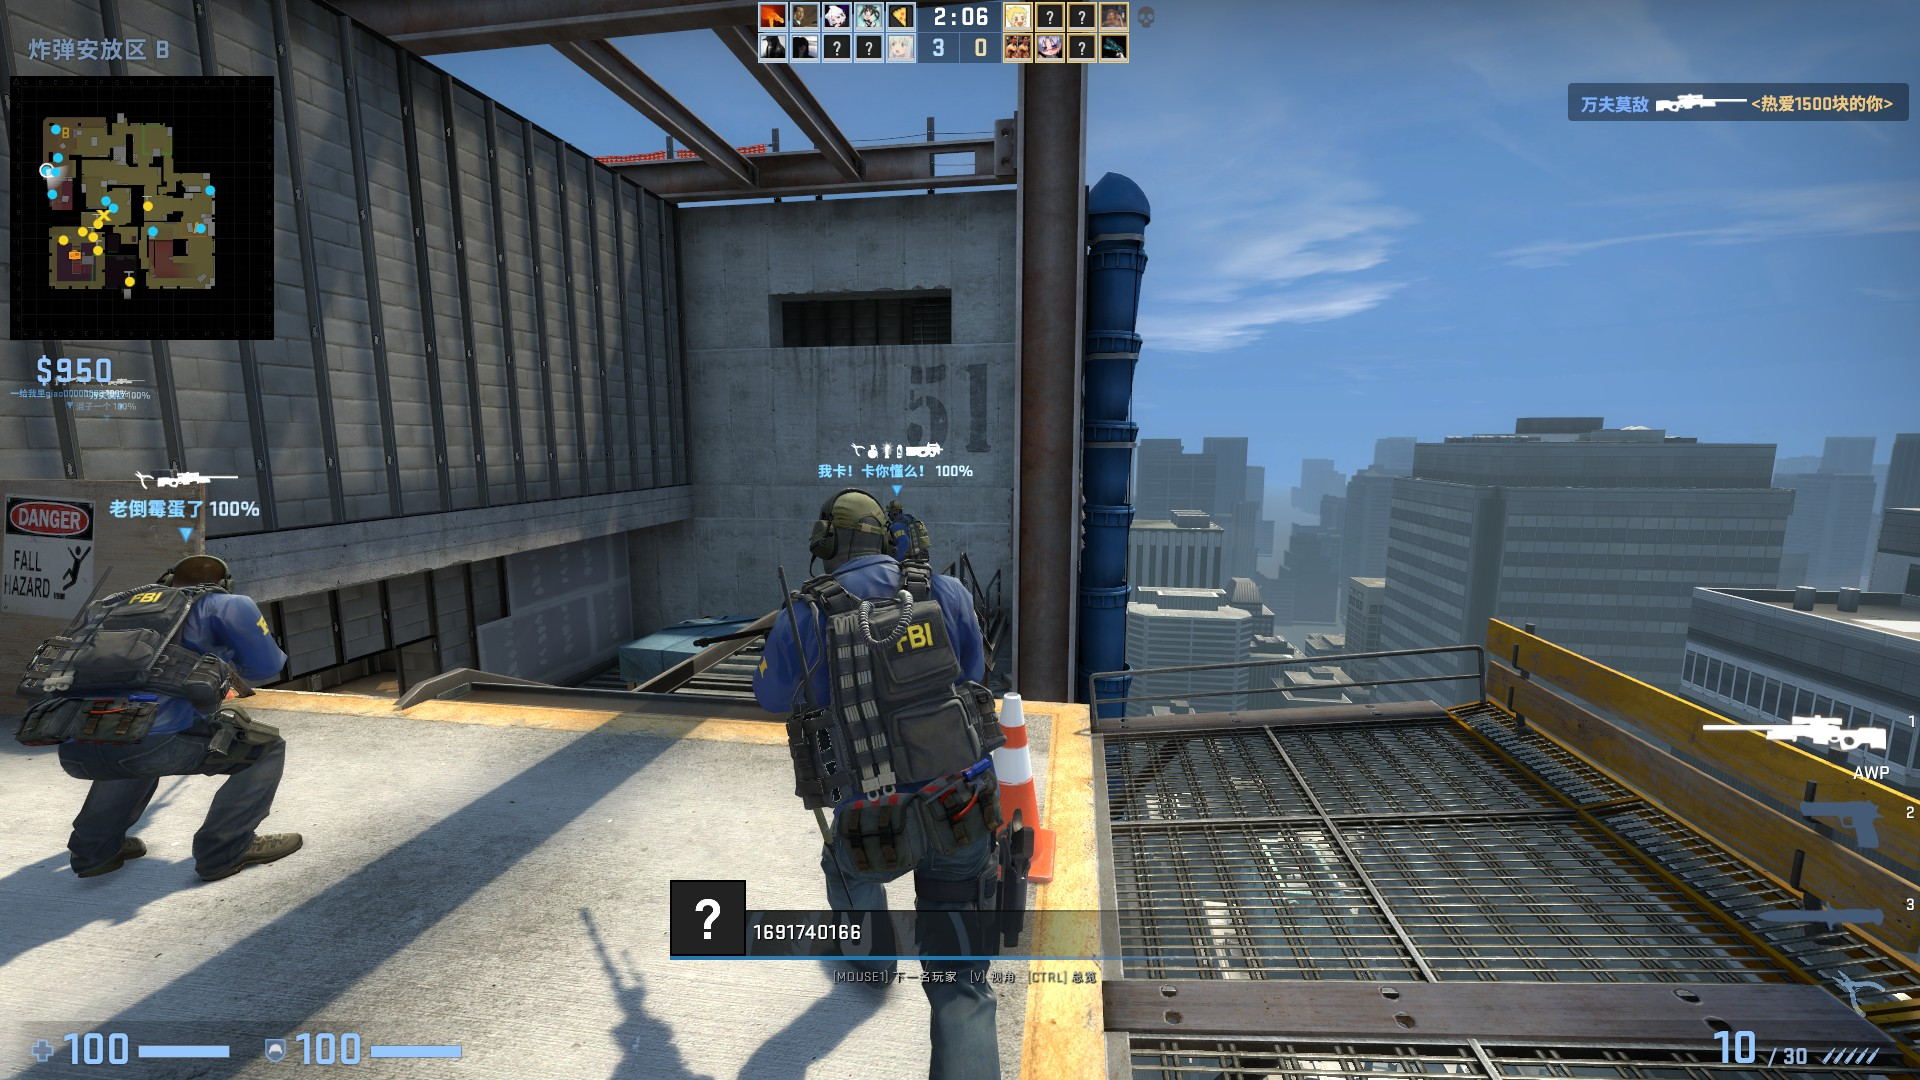head: (808, 488, 885, 567), (158, 552, 236, 595), (884, 499, 905, 520)
